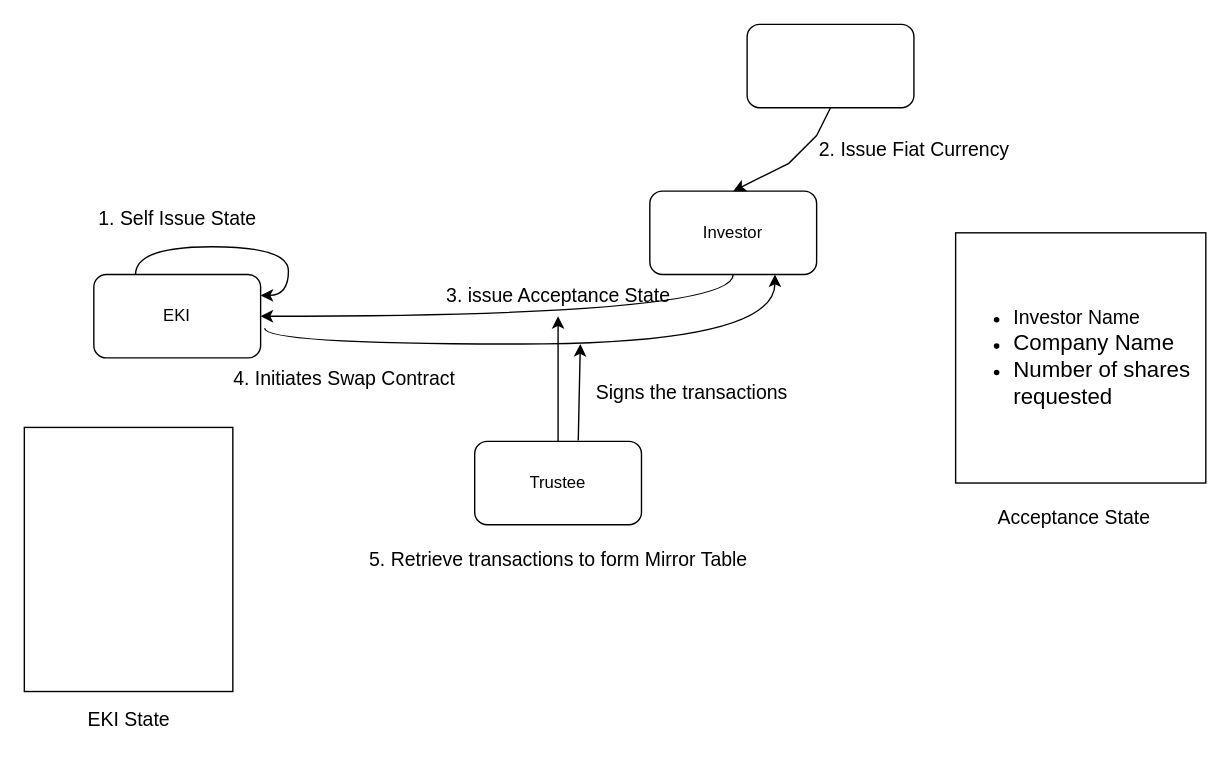
This 1230x765 diagram has some shape labels left out. The centre of each missing label's shape, as x and y in pixels:
"Bank" goes at point (830, 65).
"Company Name Symbol Total Supply Price for each share" goes at point (128, 559).
